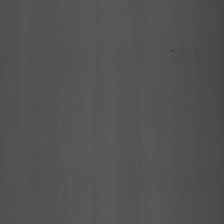inclusion: (158, 64, 169, 77), (169, 42, 175, 58)
